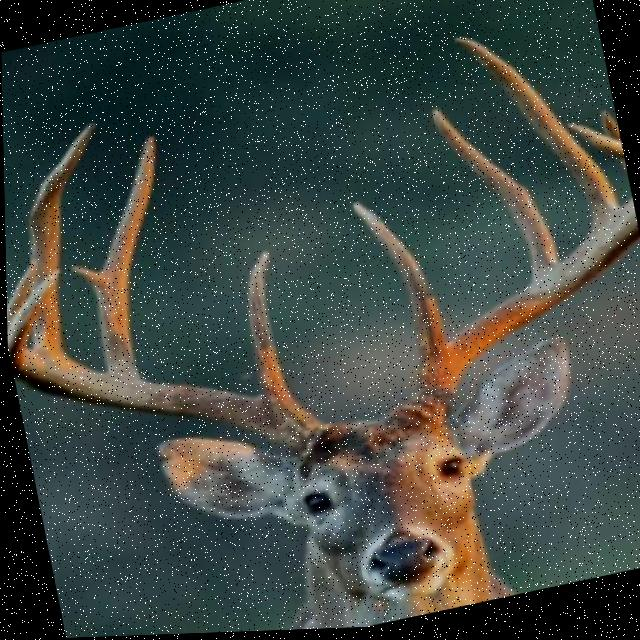E1: (69, 265, 105, 287)
L-F: (6, 268, 328, 460)
L-G1: (245, 251, 292, 401)
L-G2: (95, 135, 155, 381)
R-F: (402, 206, 639, 424)
R-G1: (349, 204, 446, 373)
R-G2: (429, 108, 559, 287)
R-G3: (452, 38, 618, 234)
